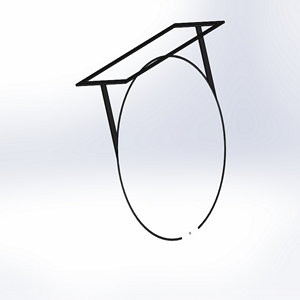circle: (74, 19, 228, 241)
